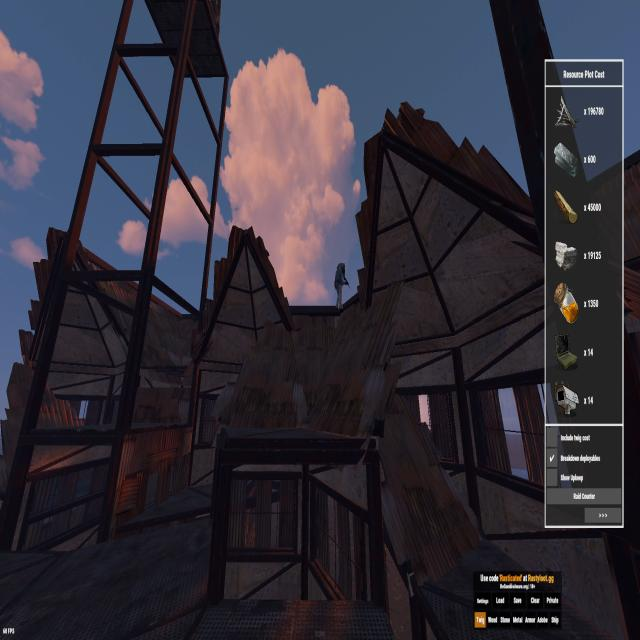Player: (333, 259, 346, 313)
